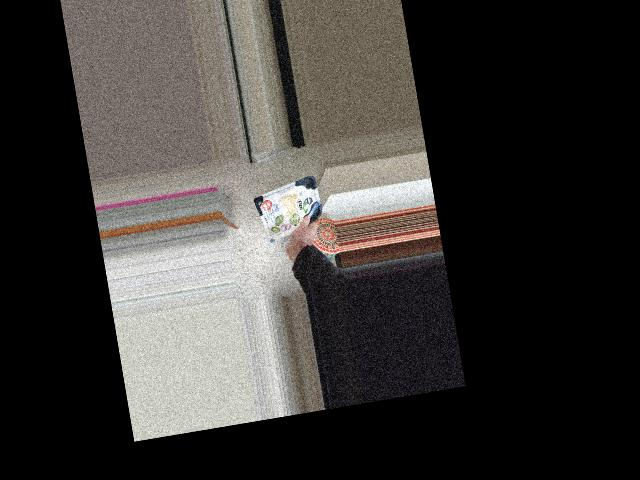cheese: (251, 179, 329, 238)
